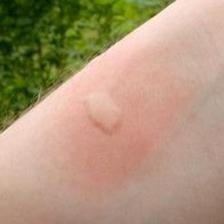Mosquito: (77, 84, 129, 137)
